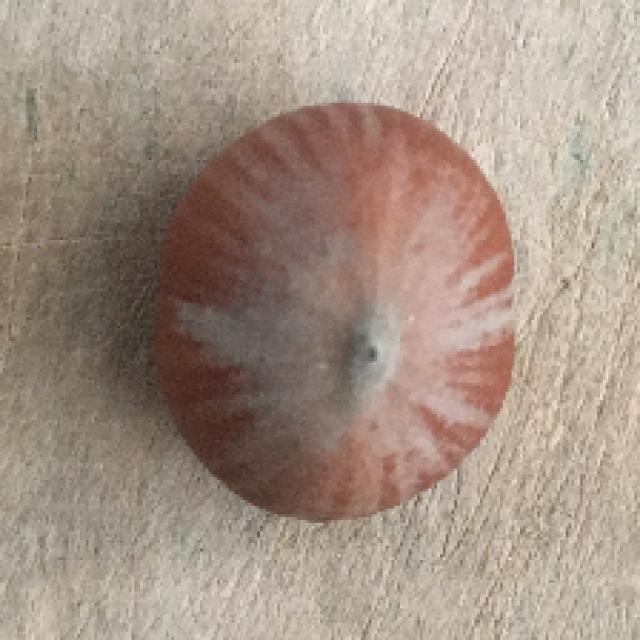qualityHazelnut: (145, 90, 530, 526)
